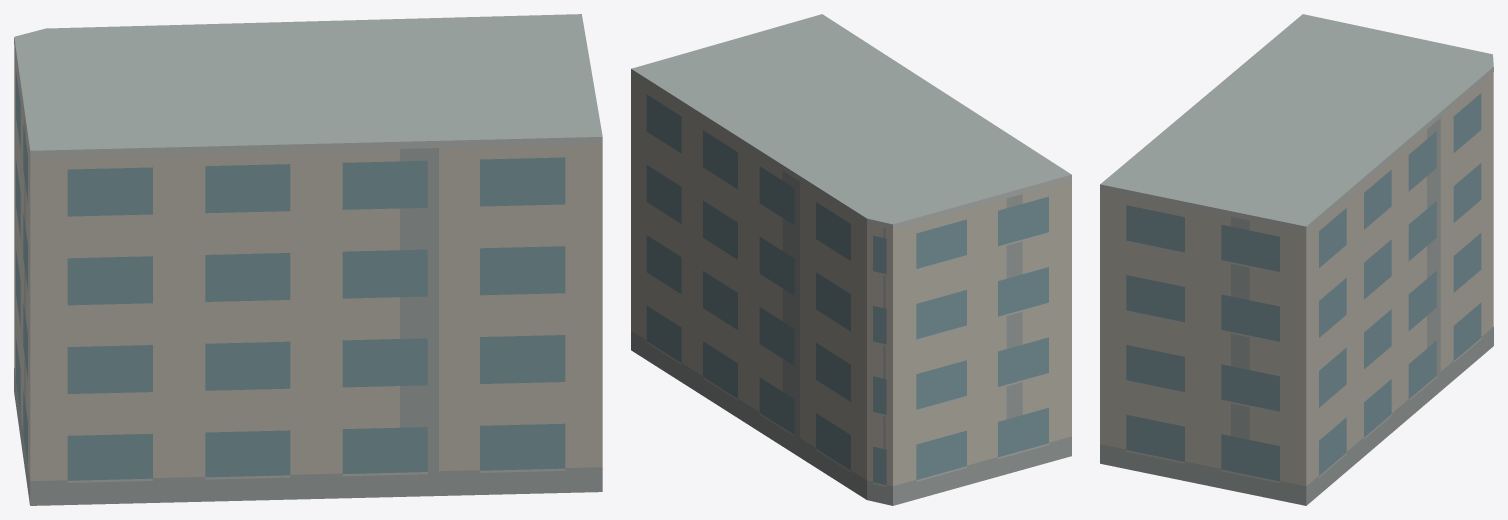
Rendered from residential-7456755d-948d-43f2-9835-ea1761ab3cd0.glb.
3 renders of one model, left to right at view 1: azimuth 30°, elevation 25°; view 2: azimuth 150°, elevation 25°; view 3: azimuth 270°, elevation 25°, orthographic. The views are drawn at different scales.
Visible parts, largest first — view 1: residential-7456755d-948d-43f2-9835-ea1761ab3cd0.tmp; view 2: residential-7456755d-948d-43f2-9835-ea1761ab3cd0.tmp; view 3: residential-7456755d-948d-43f2-9835-ea1761ab3cd0.tmp.
Boxes of the visible parts, <box> form: residential-7456755d-948d-43f2-9835-ea1761ab3cd0.tmp: <box>14,14,602,505</box>; residential-7456755d-948d-43f2-9835-ea1761ab3cd0.tmp: <box>631,14,1071,505</box>; residential-7456755d-948d-43f2-9835-ea1761ab3cd0.tmp: <box>1100,14,1493,505</box>.
Size of the model in its own units: 19.6 by 12 by 15.34.
